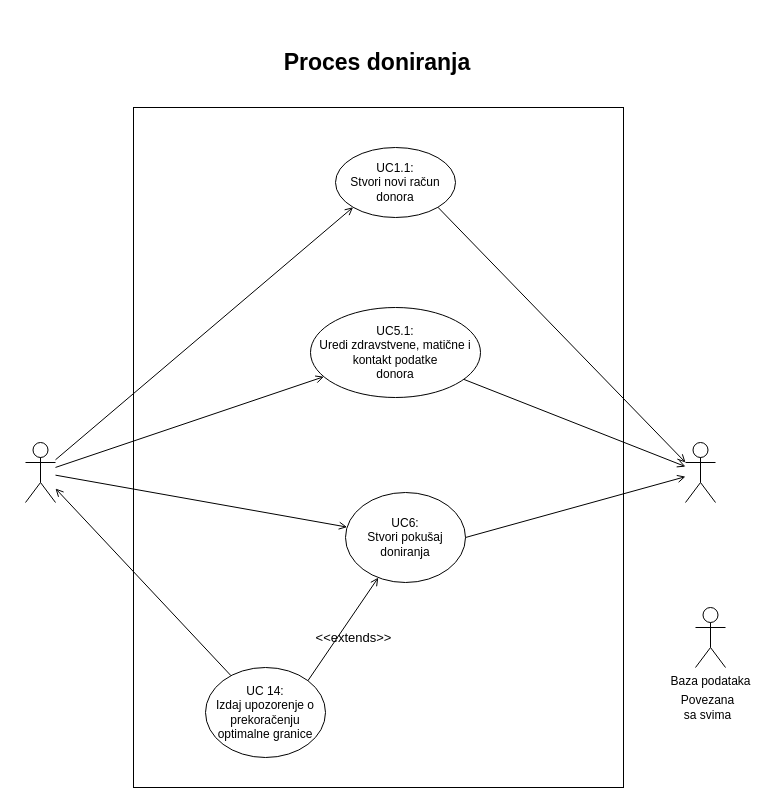
The diagram is 768 pixels wide and 805 high, and some of its shapes have lost their labels. The shapes that lost their labels are listed below. From the top down, each one's centre as x and y in pixels, then its label:
At point 40,472: "Djelatnik banke".
At point 700,472: "Donor".
